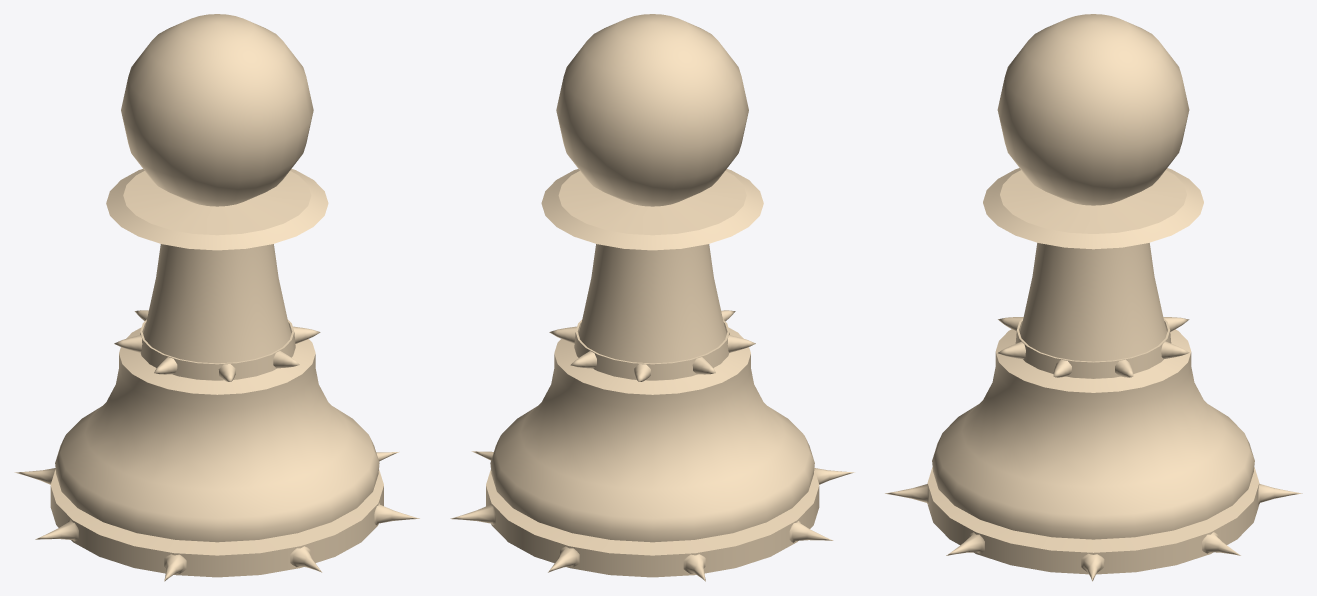
The model's file is New Pawn.glb.
3 views of the same model, side by side, from view 1: azimuth 30°, elevation 25°; view 2: azimuth 150°, elevation 25°; view 3: azimuth 270°, elevation 25° (orthographic).
Visible parts, largest first — view 1: Pawn; view 2: Pawn; view 3: Pawn.
Part boxes in pixels (x1,y1,x2,y2): Pawn: (14,14,419,581); Pawn: (450,14,854,581); Pawn: (885,14,1302,581).
Bounding box in the file's own units: 1.38 × 1.75 × 1.38.
